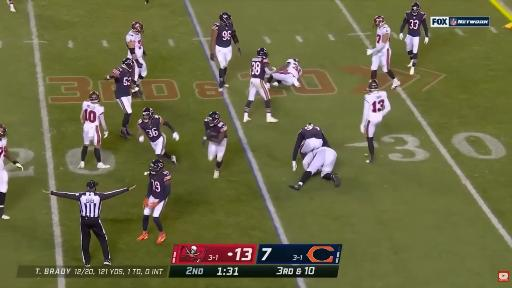Helmet: (149, 159, 164, 174), (208, 111, 220, 126), (220, 12, 232, 25), (142, 107, 153, 121), (122, 58, 134, 70), (257, 47, 269, 58), (132, 22, 143, 34), (411, 2, 421, 15), (368, 80, 378, 91), (89, 92, 100, 102), (374, 16, 384, 27), (0, 124, 6, 138), (305, 123, 314, 130), (287, 59, 298, 64), (294, 59, 298, 63)
Jersey: (303, 147, 336, 175), (363, 91, 390, 122), (147, 171, 170, 200), (138, 116, 161, 142), (113, 67, 132, 98), (212, 23, 235, 47), (82, 101, 104, 126), (404, 12, 426, 36), (204, 118, 227, 138), (126, 31, 143, 58), (250, 57, 269, 79), (376, 24, 390, 46), (298, 127, 323, 139), (287, 59, 302, 78), (0, 138, 7, 170)
Player: (137, 160, 170, 244), (244, 48, 277, 122), (361, 80, 390, 163), (367, 16, 400, 88), (211, 12, 241, 91), (78, 92, 109, 168), (106, 58, 134, 139), (138, 108, 179, 163), (289, 147, 340, 190), (0, 124, 23, 219), (399, 3, 428, 74), (293, 123, 329, 170), (203, 112, 227, 178), (126, 22, 147, 95), (267, 59, 302, 87)
